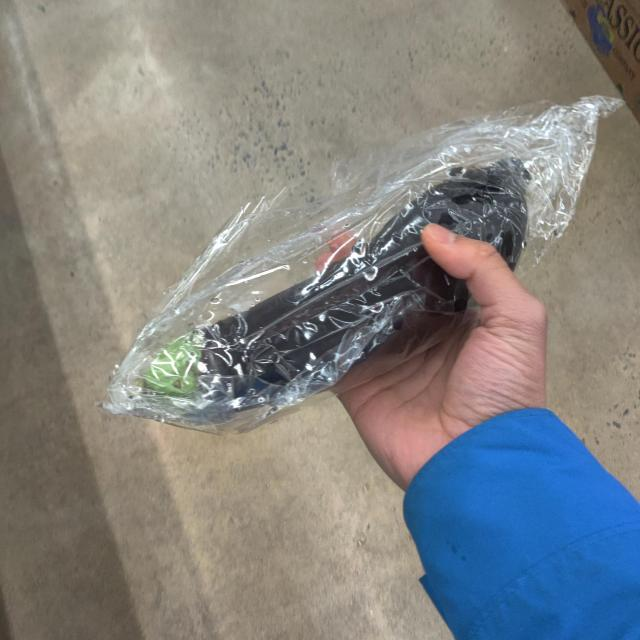Eggplant: (101, 159, 560, 417)
